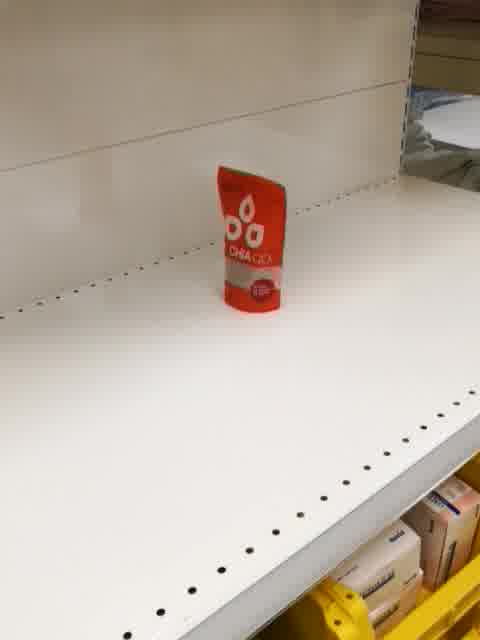whitechia: (212, 164, 288, 316)
